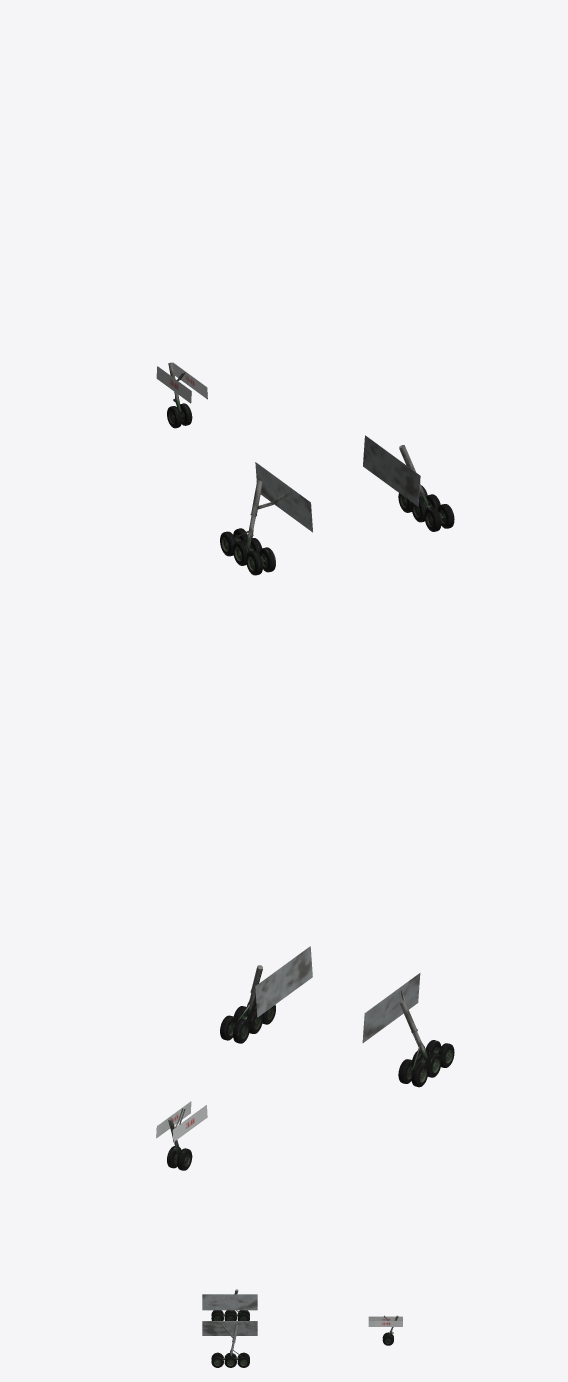
Rendered from tu22m2_gear.glb.
3 renders of one model, top to bottom at view 1: azimuth 30°, elevation 25°; view 2: azimuth 150°, elevation 25°; view 3: azimuth 270°, elevation 25°, orthographic. The views are drawn at different scales.
Visible parts, largest first — view 1: door_m_r_g, door_m_l_g, gear_w_l, gear_w_r; view 2: door_m_r_g, door_m_l_g, gear_w_l, gear_w_r; view 3: door_m_l_g, door_m_r_g, gear_w_r, gear_w_l, door_n_r_g.
Boxes of the visible parts, left/top/right/bottom form: door_m_r_g: left=363, top=435, right=420, bottom=506; door_m_l_g: left=255, top=462, right=312, bottom=532; gear_w_l: left=220, top=528, right=275, bottom=575; gear_w_r: left=398, top=485, right=454, bottom=531; door_m_r_g: left=255, top=946, right=312, bottom=1017; door_m_l_g: left=362, top=973, right=420, bottom=1042; gear_w_l: left=398, top=1040, right=454, bottom=1087; gear_w_r: left=220, top=997, right=275, bottom=1043; door_m_l_g: left=202, top=1294, right=257, bottom=1310; door_m_r_g: left=202, top=1321, right=257, bottom=1335; gear_w_r: left=211, top=1352, right=249, bottom=1367; gear_w_l: left=211, top=1310, right=249, bottom=1320; door_n_r_g: left=368, top=1320, right=402, bottom=1326.
Size of the model in its own units: 9.2 by 12.9 by 43.5.
1 material, 1 textured.
